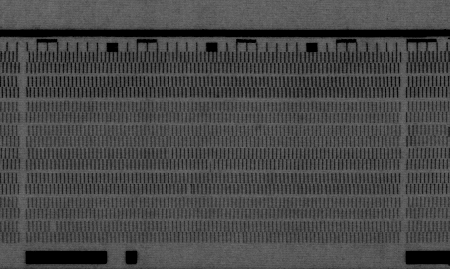Broken hole: (47, 220, 58, 232)
Oblique printing: (183, 184, 197, 197), (205, 158, 216, 173)
